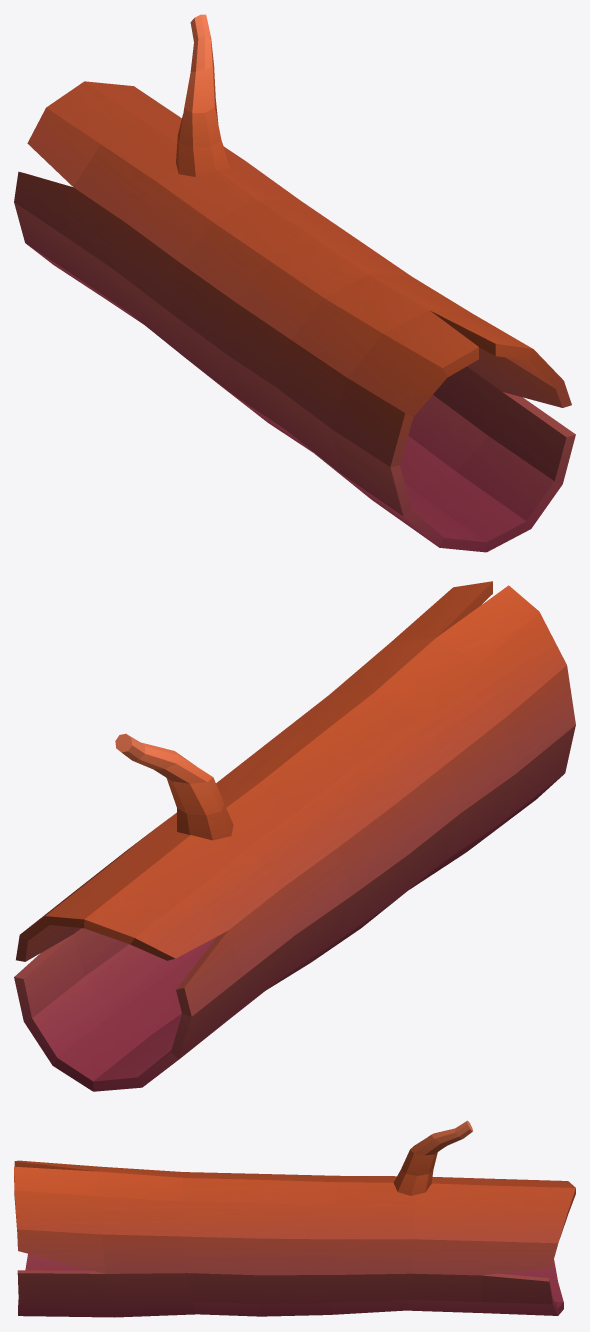
Rendered from Fallen_Trunk.fbx.
3 renders of one model, top to bottom at view 1: azimuth 30°, elevation 25°; view 2: azimuth 150°, elevation 25°; view 3: azimuth 270°, elevation 25°, orthographic. The views are drawn at different scales.
Parts seen in each view (by area): view 1: Fallen Trunk; view 2: Fallen Trunk; view 3: Fallen Trunk.
Boxes of the visible parts, box(x1,y1,x2,y2) form: Fallen Trunk: box(14, 14, 575, 552); Fallen Trunk: box(14, 581, 575, 1091); Fallen Trunk: box(14, 1120, 575, 1317).
Size of the model in its own units: 68.16 by 108 by 271.
